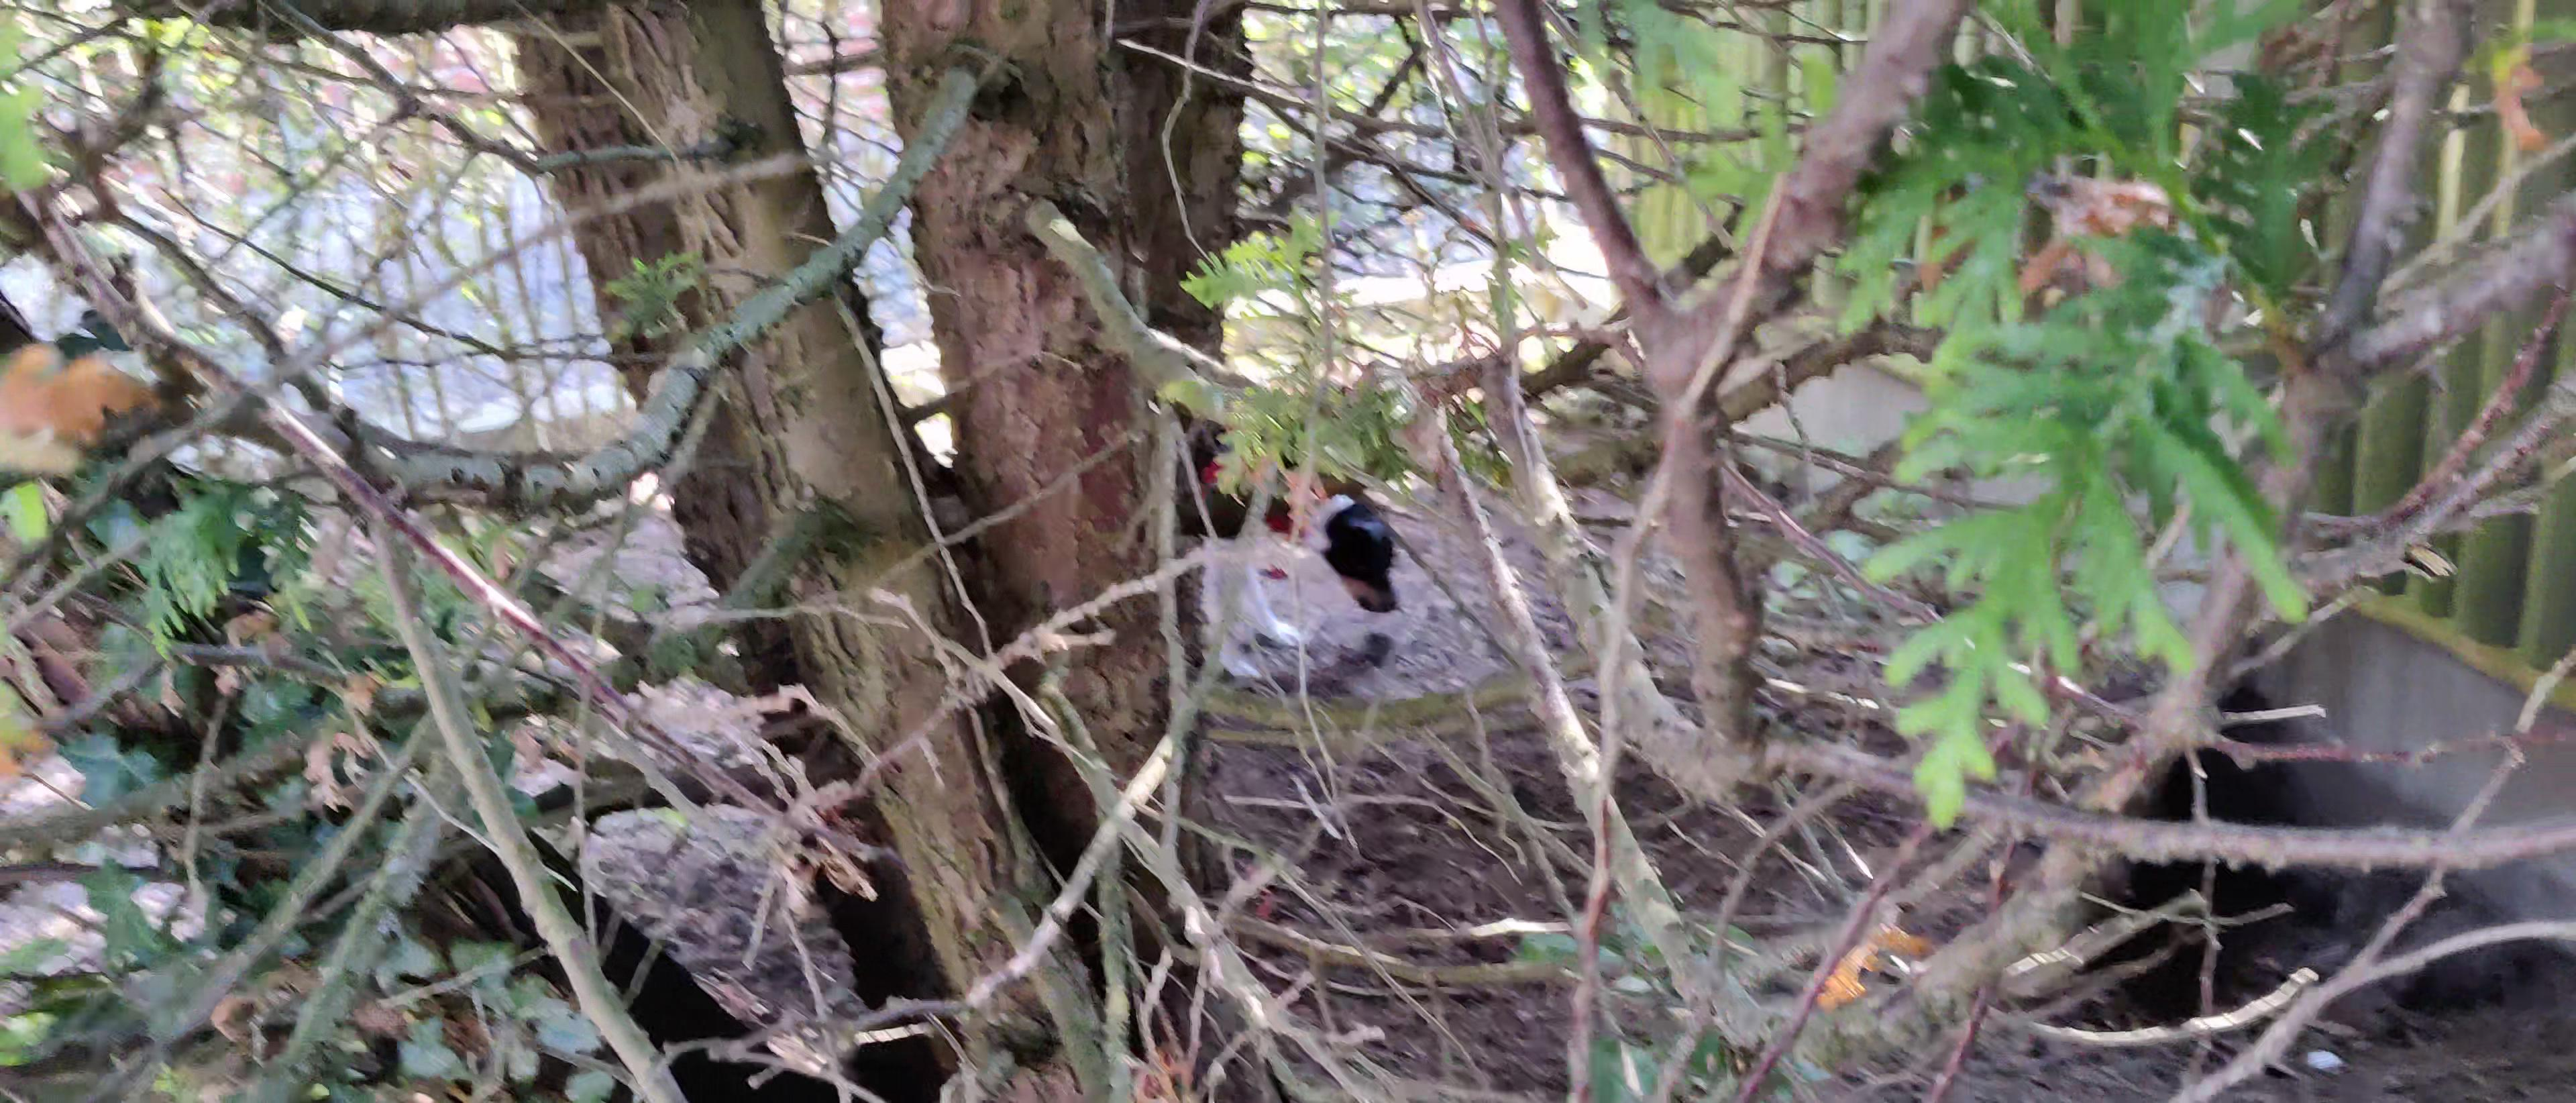Dog: (1165, 427, 1408, 694)
